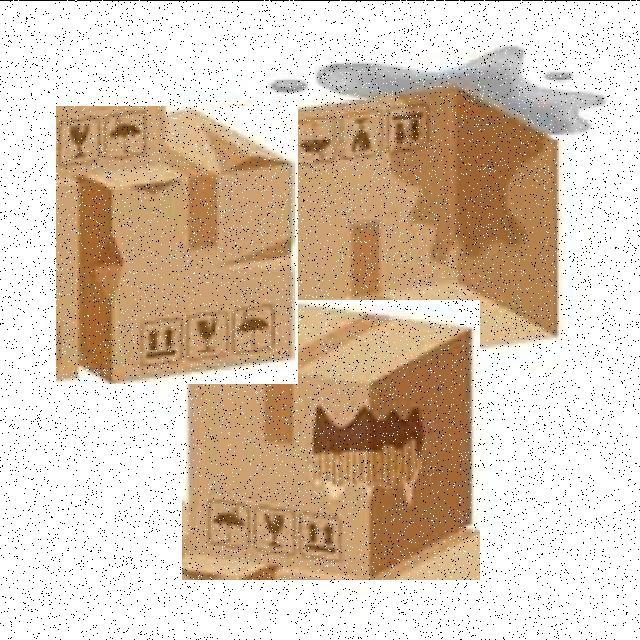defect: (182, 298, 480, 578), (268, 84, 570, 344), (56, 105, 298, 383)
